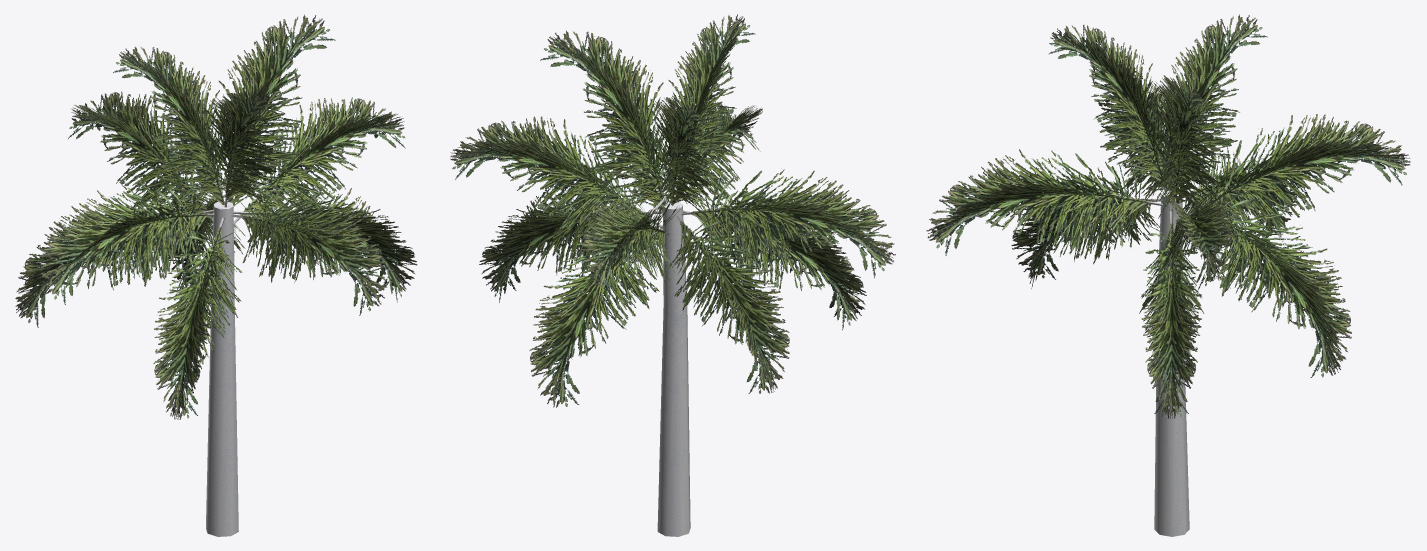
The model's file is Foxtail701c.dae.
The picture shows the model from 3 angles, left to right: view 1: azimuth 30°, elevation 25°; view 2: azimuth 150°, elevation 25°; view 3: azimuth 270°, elevation 25°; orthographic projection. The views are drawn at different scales.
Visible parts, largest first — view 1: foxtail701_half (×22), Foxtail_trunk (×2); view 2: foxtail701_half (×21), Foxtail_trunk (×2); view 3: foxtail701_half (×21), Foxtail_trunk (×2).
Part boxes in pixels (x1=…): foxtail701_half (×22): x1=15, y1=14, x2=417, y2=419; Foxtail_trunk (×2): x1=206, y1=205, x2=238, y2=536; foxtail701_half (×21): x1=450, y1=14, x2=895, y2=407; Foxtail_trunk (×2): x1=657, y1=205, x2=690, y2=536; foxtail701_half (×21): x1=926, y1=14, x2=1410, y2=418; Foxtail_trunk (×2): x1=1154, y1=194, x2=1189, y2=536.
Size of the model in its own units: 137 by 138 by 155.
